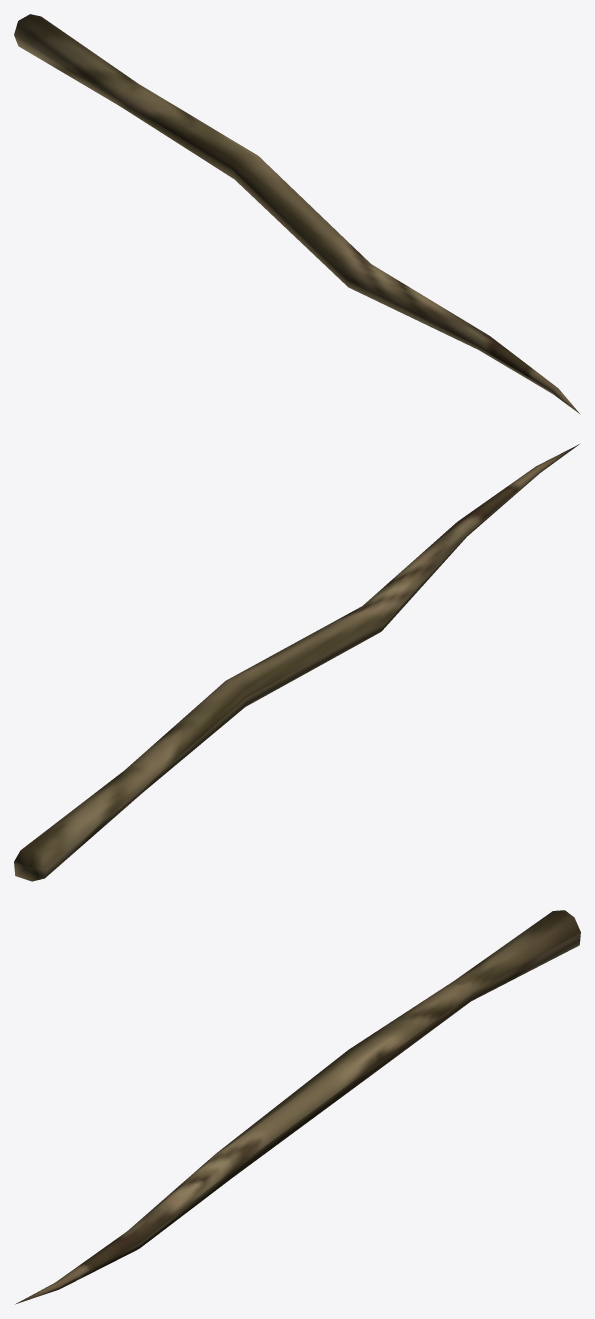
The model's file is Stick01.fbx.
3 views of the same model, one above another, from view 1: azimuth 30°, elevation 25°; view 2: azimuth 150°, elevation 25°; view 3: azimuth 330°, elevation 25° (orthographic).
Parts seen in each view (by area): view 1: Stick01_LOD0; view 2: Stick01_LOD0; view 3: Stick01_LOD0.
Part boxes in pixels (left/top/right/bottom): Stick01_LOD0: left=14, top=14, right=580, bottom=414; Stick01_LOD0: left=14, top=444, right=579, bottom=881; Stick01_LOD0: left=15, top=910, right=580, bottom=1304.
Size of what is drawn, in the model's own units: 1.91 by 2.19 by 45.85.
